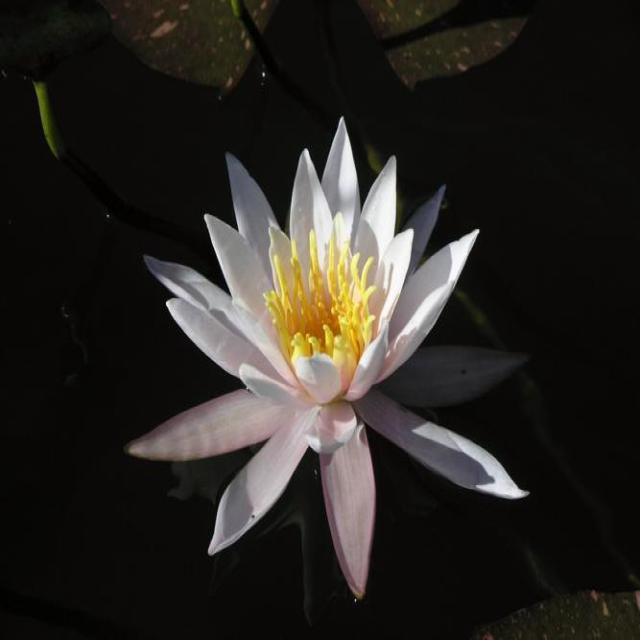water-lily: (106, 97, 564, 566)
